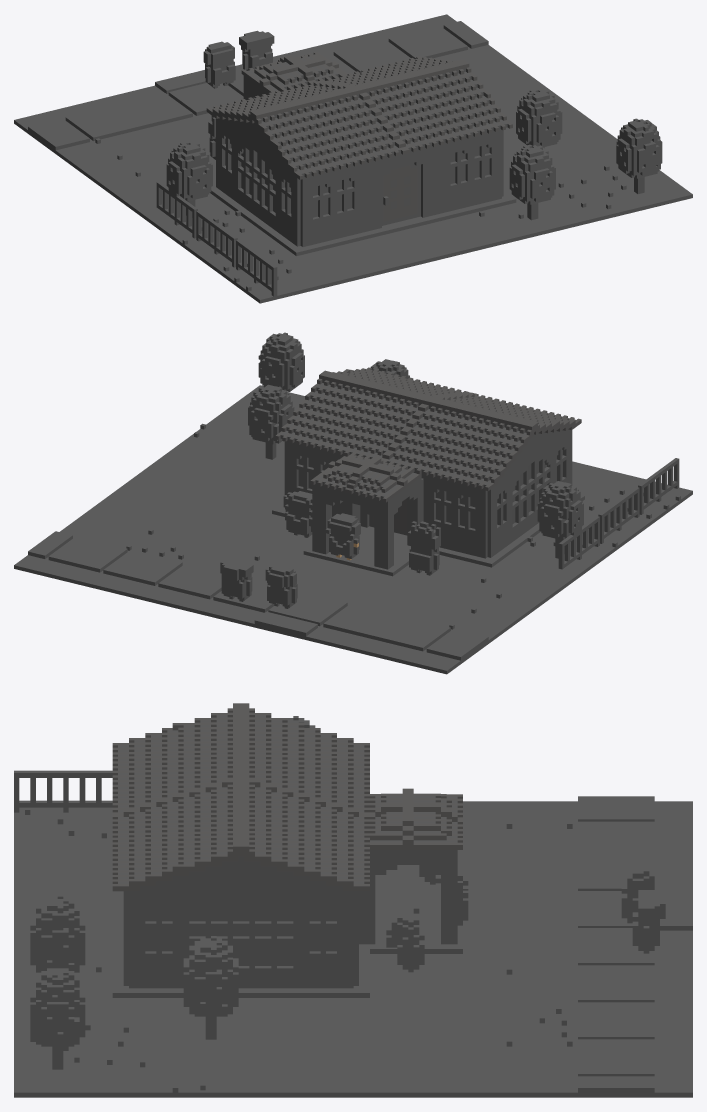
File: scene_house3.obj
3 views of the same model, one above another, from view 1: azimuth 30°, elevation 25°; view 2: azimuth 150°, elevation 25°; view 3: azimuth 270°, elevation 25° (orthographic). The views are drawn at different scales.
Bounding box in the file's own units: 126 × 31 × 124.
